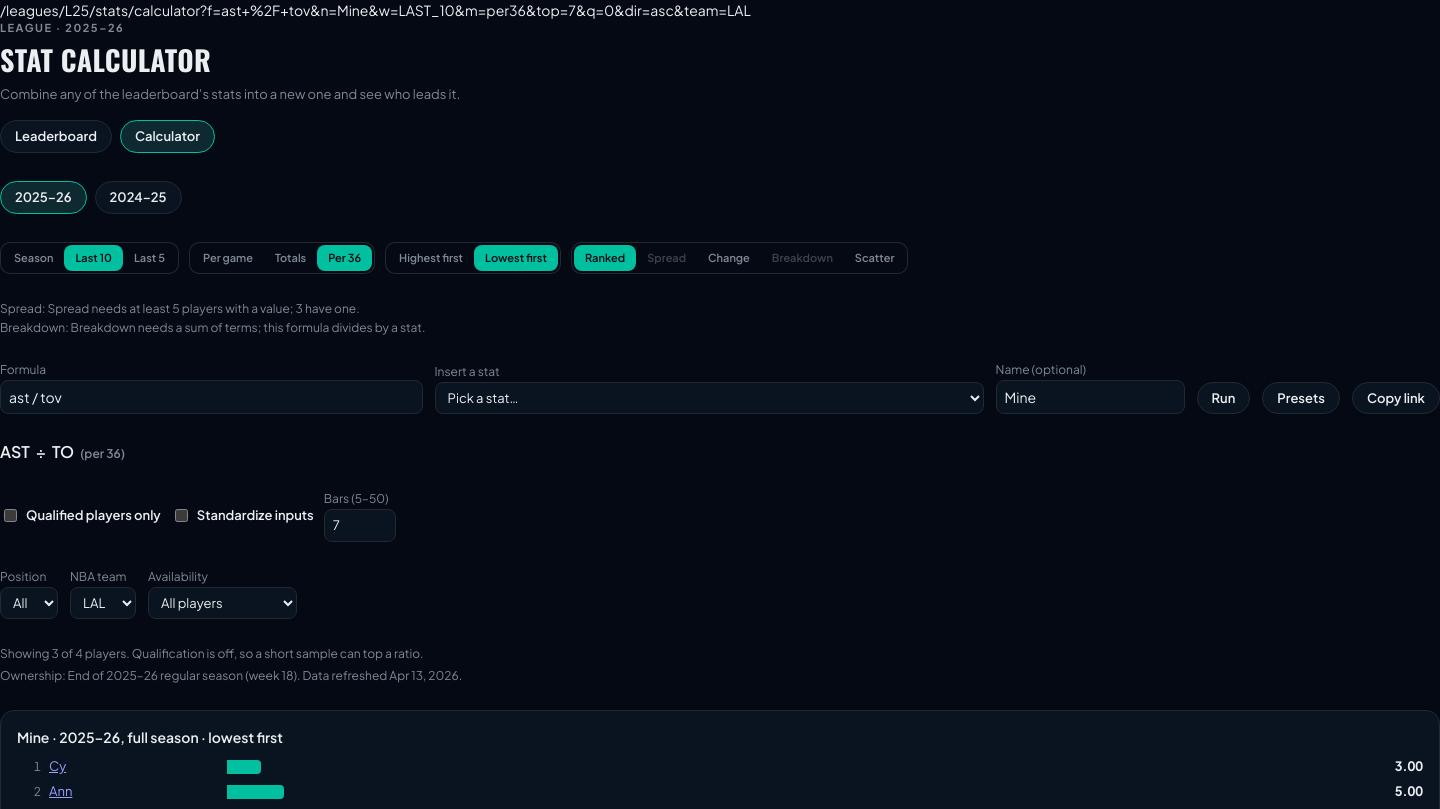
Test: StatCalculator › restores state from the link, and writes changes back with replace (no new history entry)
This screenshot has width=1440, height=809.
Expected: the field labelled "Name (optional)" holds "Mine", x1=996 y1=380 x2=1184 y2=414
Expected: the checkbox labelled "Qualified players only" is not checked, x1=4 y1=509 x2=17 y2=522
Step 1. Replace the text in the field labelled "Formula" with "pts + ast" → (211, 397), box x1=0 y1=380 x2=422 y2=414
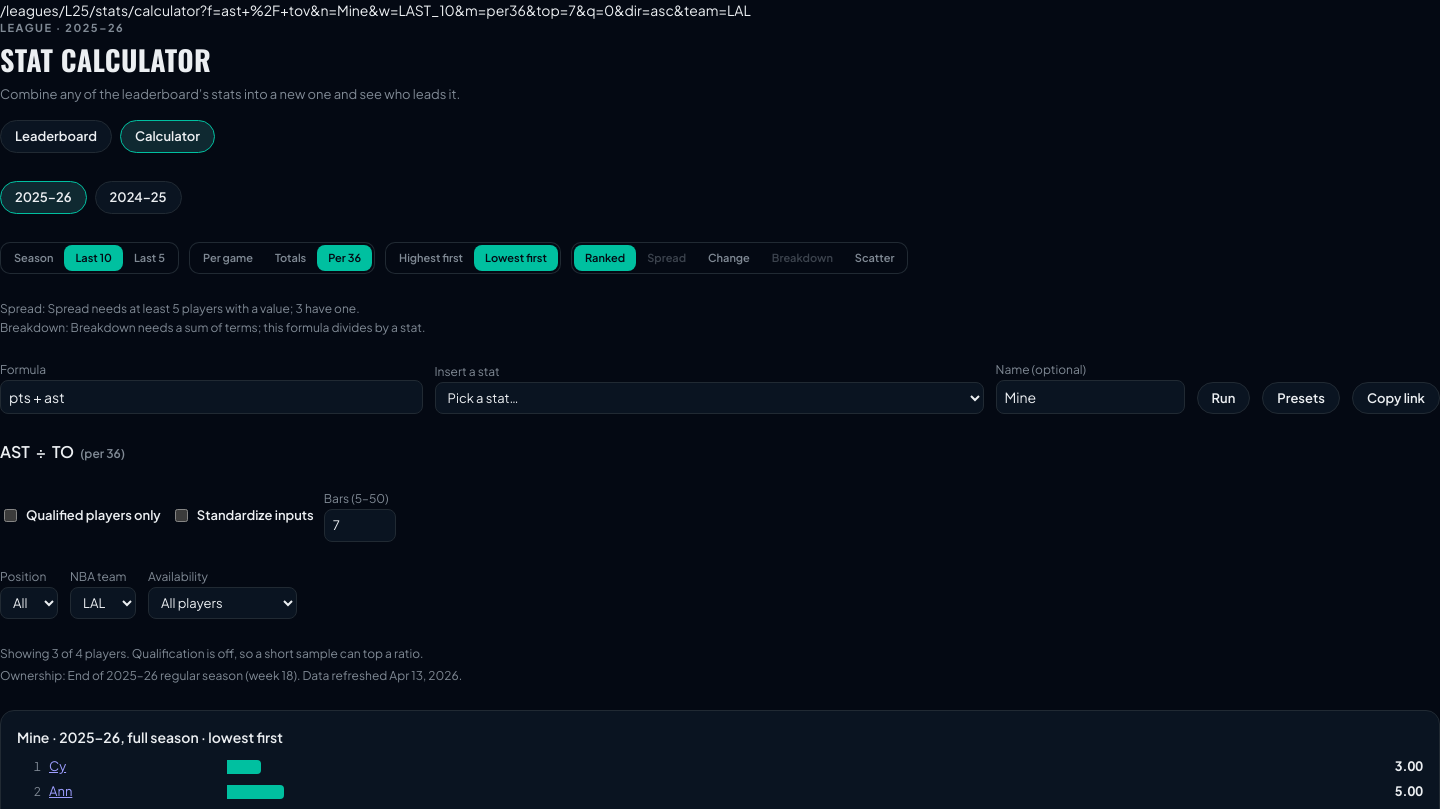
Step 2. Click the button "Run" → (1223, 398), box x1=1196 y1=382 x2=1250 y2=414
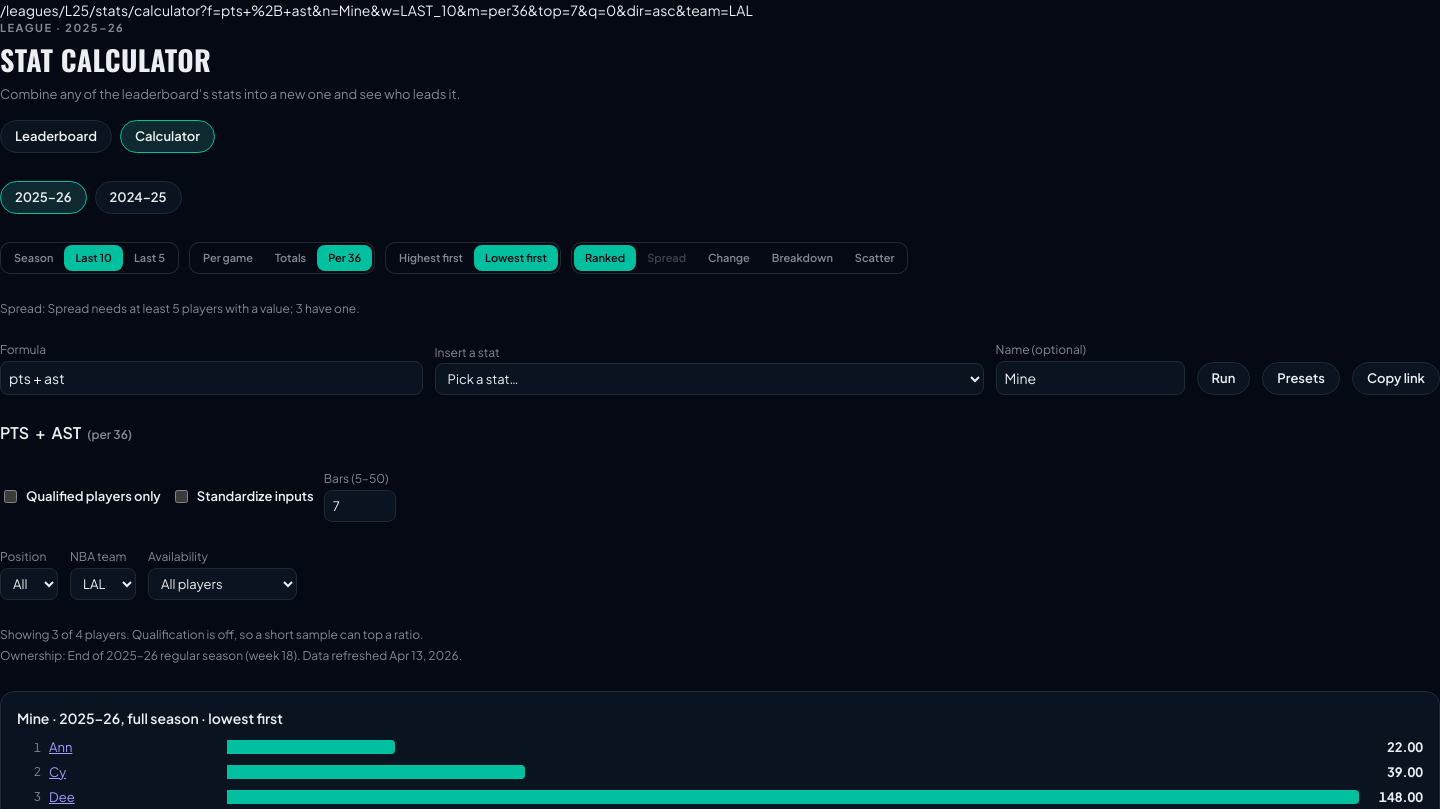
Expected: the text with test id "where" shows "team=LAL", x1=0 y1=1 x2=753 y2=19
Now the text with test id "where" shows "f=pts+%2B+ast", box x1=0 y1=1 x2=753 y2=19
